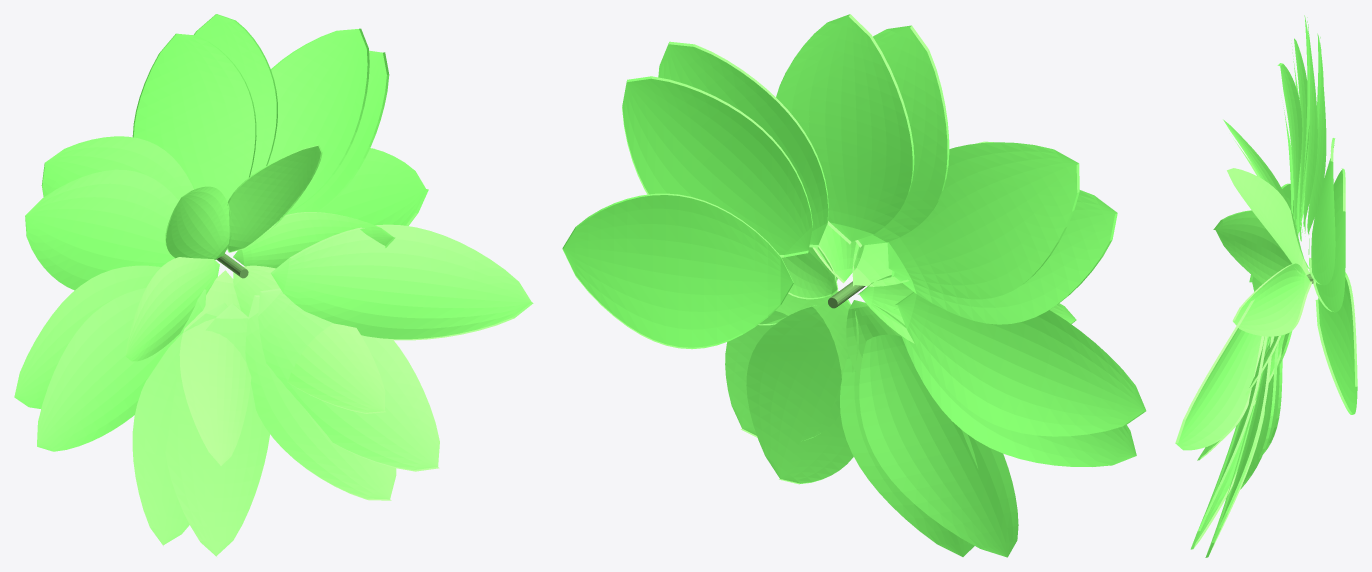
File: heading.glb
3 views of the same model, side by side, from view 1: azimuth 30°, elevation 25°; view 2: azimuth 150°, elevation 25°; view 3: azimuth 270°, elevation 25° (orthographic). The views are drawn at different scales.
Visible parts, largest first — view 1: world; view 2: world; view 3: world.
Part boxes in pixels (bbox=[...]): world: bbox=[14, 14, 533, 556]; world: bbox=[562, 14, 1146, 557]; world: bbox=[1175, 15, 1357, 557].
Bounding box in the file's own units: 6.32 × 6.32 × 2.13.
